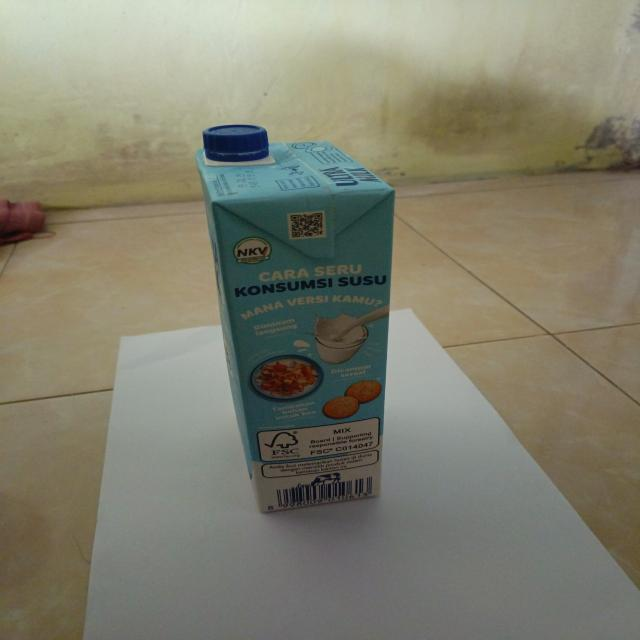indomie-mie-kocok-bandung: (193, 122, 396, 517)
